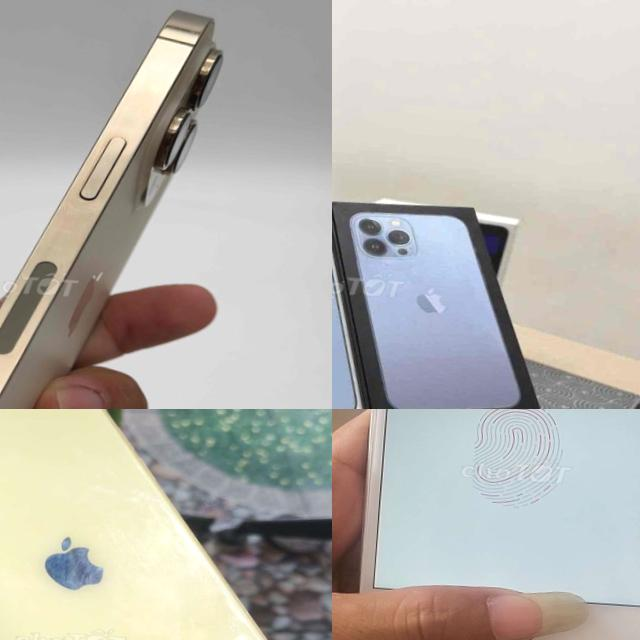gen_11: (0, 409, 332, 640)
gen_14: (0, 11, 220, 409)
gen_7_8: (333, 409, 640, 640)
scratch: (34, 534, 108, 590)
